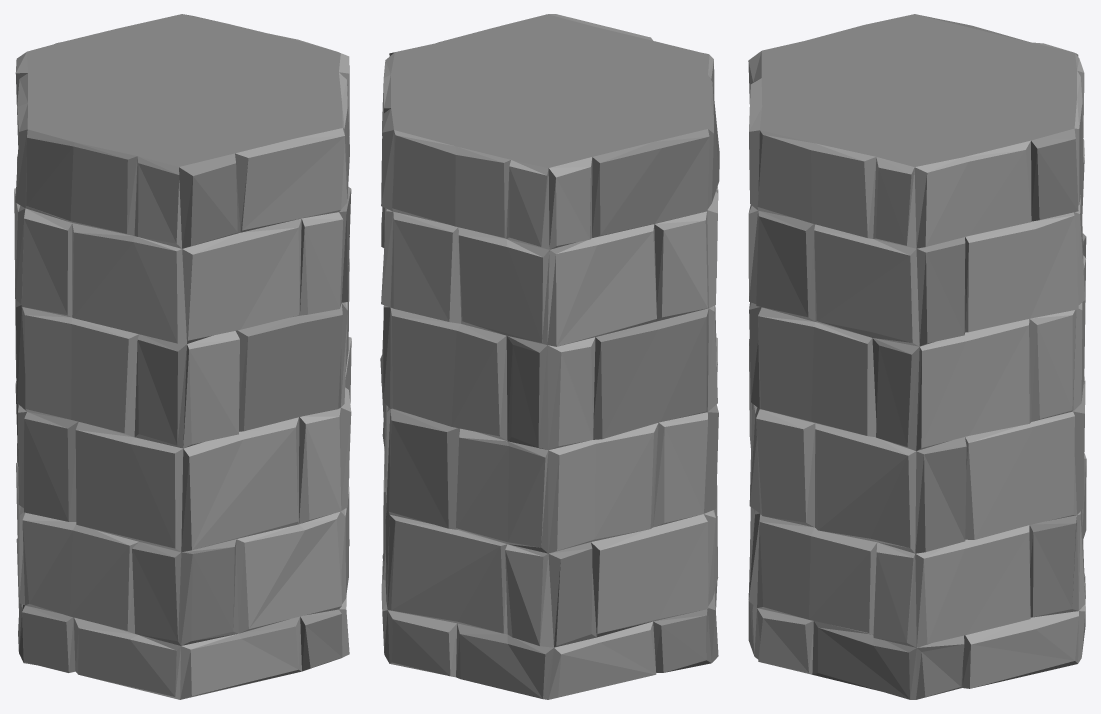
File: _PROPS_PART_01.fbx
The picture shows the model from 3 angles, left to right: view 1: azimuth 30°, elevation 25°; view 2: azimuth 150°, elevation 25°; view 3: azimuth 270°, elevation 25°; orthographic projection.
Visible parts, largest first — view 1: PROPS_PART_01; view 2: PROPS_PART_01; view 3: PROPS_PART_01.
Boxes of the visible parts, box(x1,y1,x2,y2) form: PROPS_PART_01: box(14, 14, 351, 699); PROPS_PART_01: box(380, 14, 719, 699); PROPS_PART_01: box(748, 14, 1086, 699).
Bounding box in the file's own units: 219 × 340 × 195.
